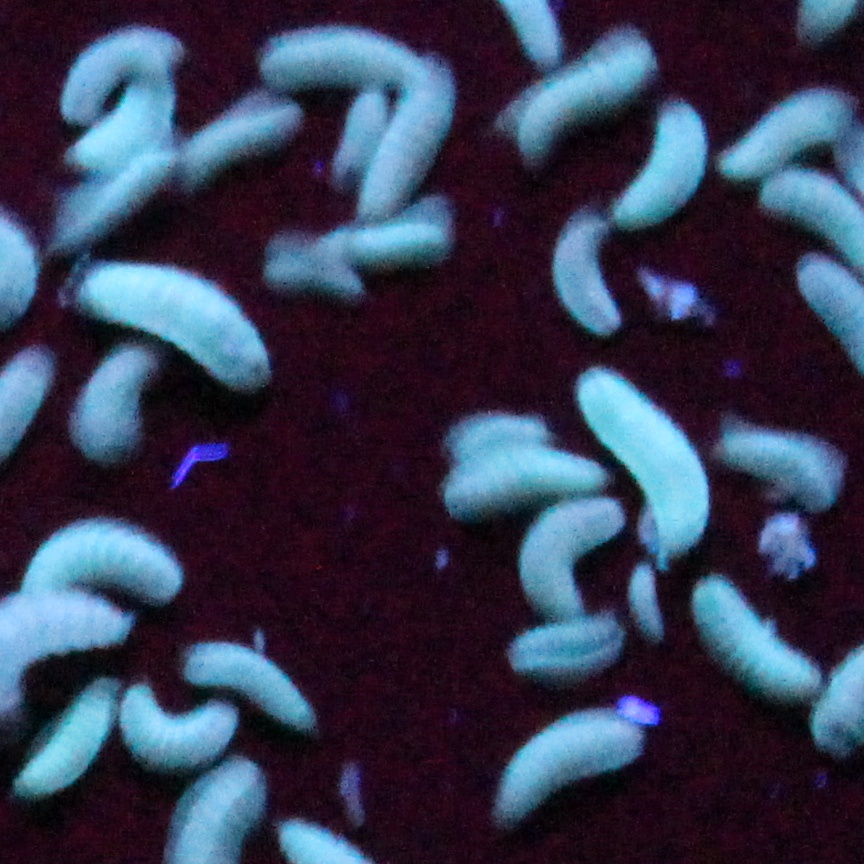larve: (571, 367, 715, 558), (67, 265, 278, 390), (505, 31, 661, 154), (490, 708, 648, 829), (3, 671, 130, 794), (26, 515, 190, 608), (361, 62, 453, 221), (694, 577, 819, 692), (515, 494, 623, 617), (444, 446, 611, 525), (55, 142, 178, 248), (182, 640, 326, 729), (717, 415, 844, 508), (178, 94, 301, 190), (715, 87, 859, 169), (615, 96, 705, 227), (311, 196, 471, 267), (61, 29, 182, 119), (119, 681, 240, 767), (76, 348, 159, 462), (255, 29, 430, 83), (553, 210, 621, 333), (509, 617, 623, 671), (328, 90, 386, 181), (446, 408, 553, 456), (269, 252, 367, 298), (632, 565, 665, 640)
